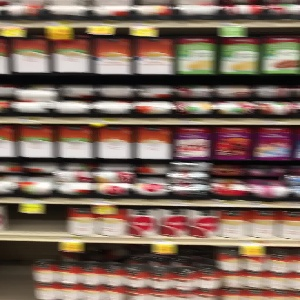void: (3, 239, 34, 300), (9, 205, 63, 234)
